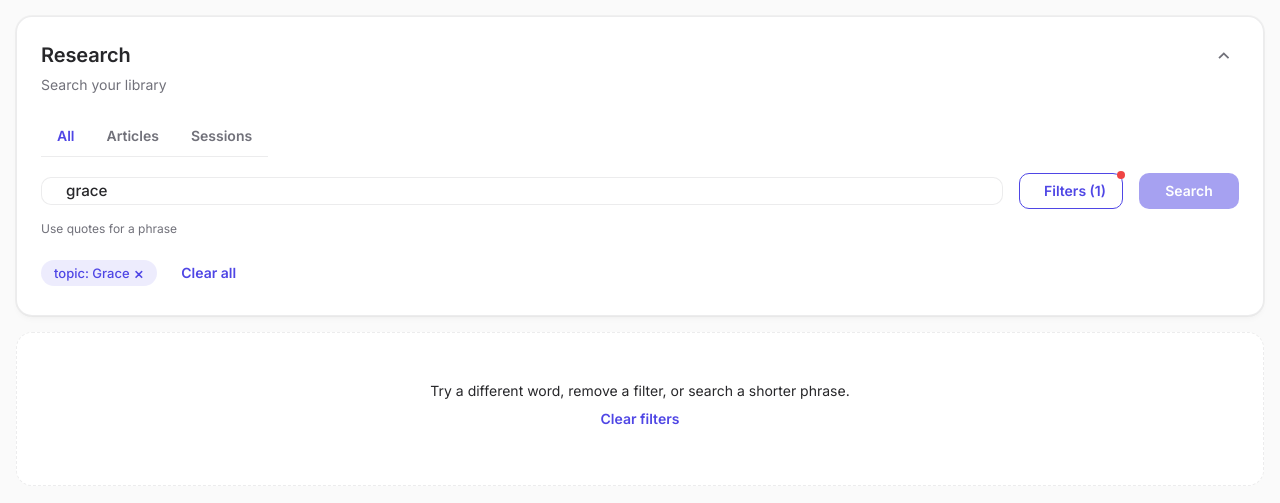
Test: Research View › shows collapsed search summary with filter count
This screenshot has width=1280, height=503.
Click the button named "Hide Search" at [1224, 56], box 1209,41 -> 1239,71
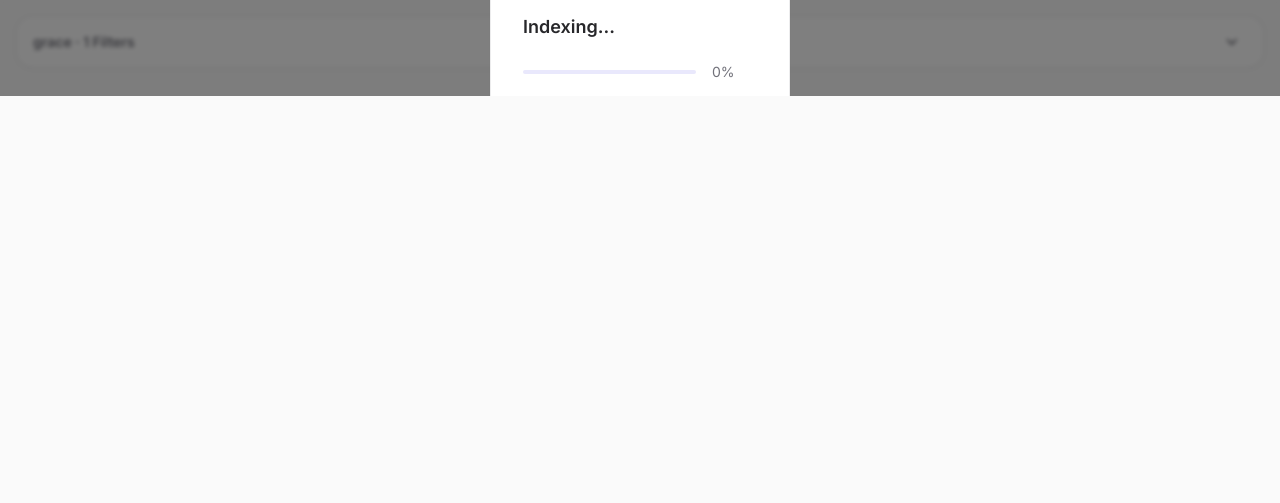
Expected: the text "grace · 1 Filters" is shown, 33,32 -> 135,52
